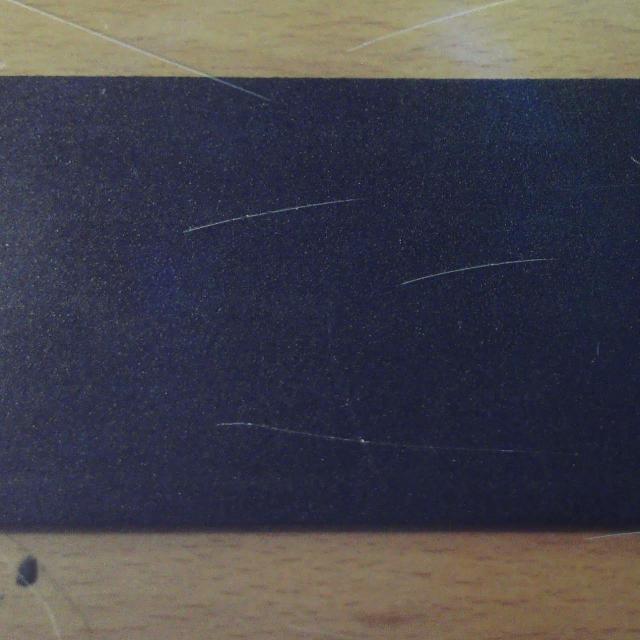defect: (215, 421, 563, 459), (185, 193, 370, 233), (402, 255, 549, 286), (217, 78, 272, 102), (629, 152, 640, 170)
